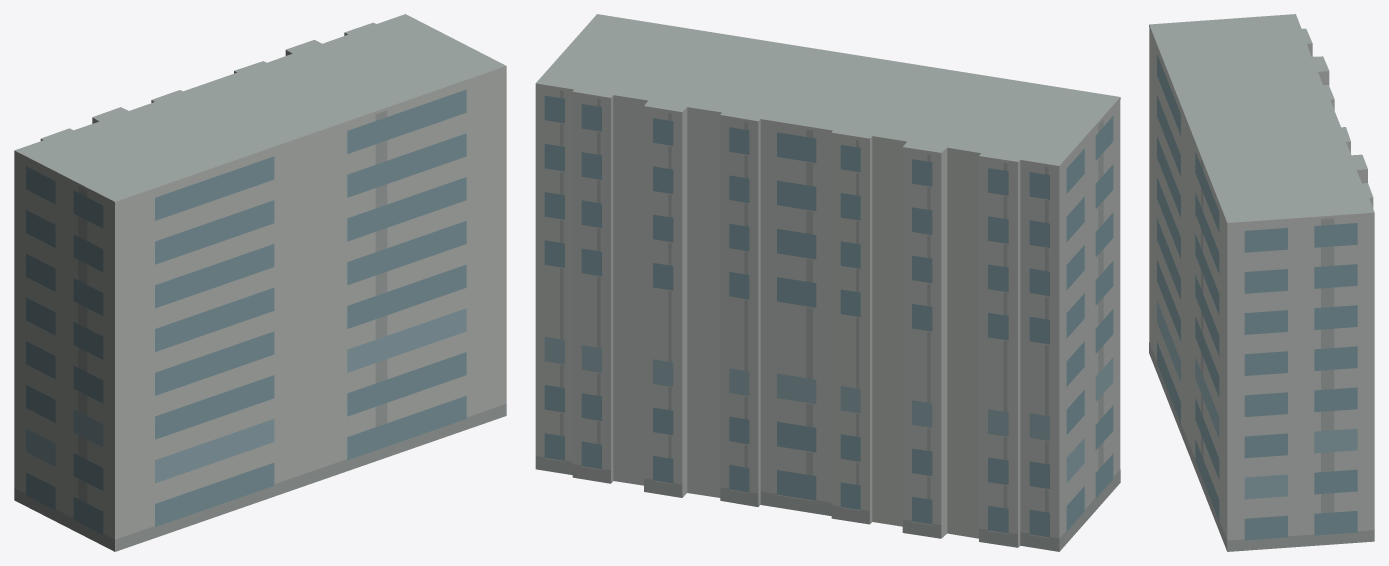
The model's file is survey-upis-32697854.glb.
3 renders of one model, left to right at view 1: azimuth 30°, elevation 25°; view 2: azimuth 150°, elevation 25°; view 3: azimuth 270°, elevation 25°, orthographic. The views are drawn at different scales.
Visible parts, largest first — view 1: survey-upis-32697854.tmp; view 2: survey-upis-32697854.tmp; view 3: survey-upis-32697854.tmp.
Part boxes in pixels (x1=…): survey-upis-32697854.tmp: x1=14, y1=14, x2=506, y2=551; survey-upis-32697854.tmp: x1=535, y1=14, x2=1120, y2=551; survey-upis-32697854.tmp: x1=1149, y1=14, x2=1374, y2=551.
Size of the model in its own units: 41.92 by 30.75 by 19.13.
